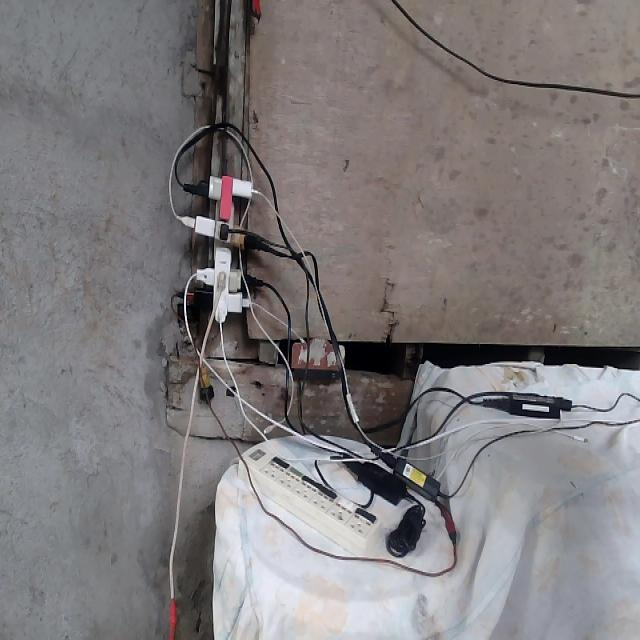-: (185, 172, 262, 325)
